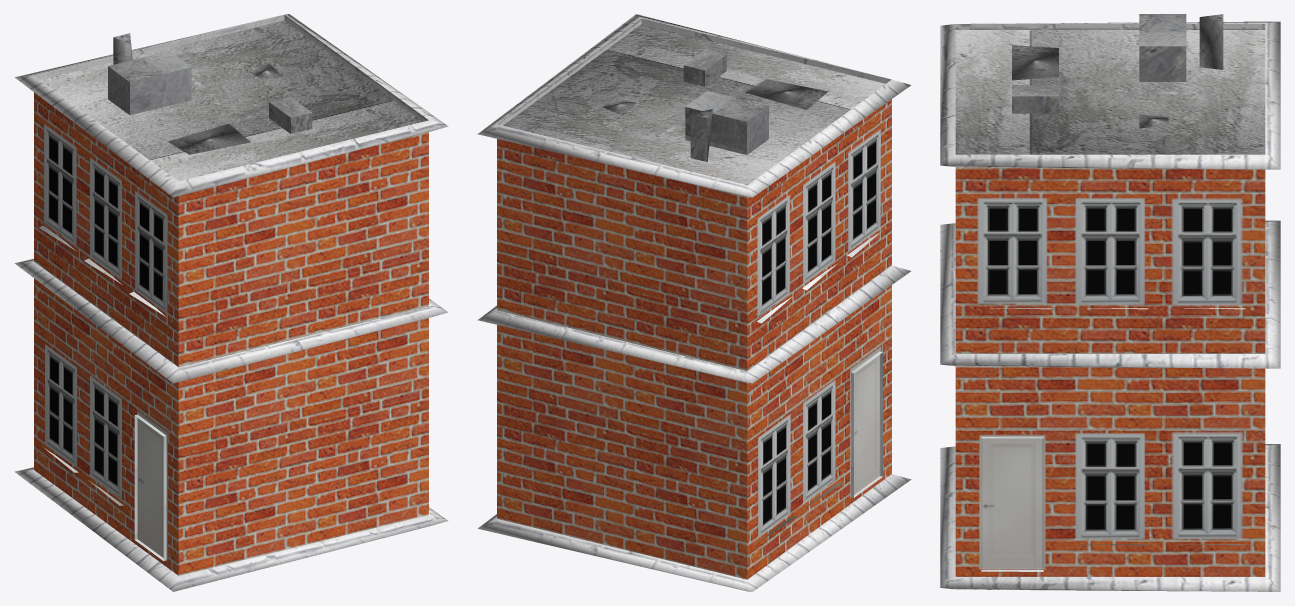
The model's file is Low poly House.fbx.
3 renders of one model, left to right at view 1: azimuth 30°, elevation 25°; view 2: azimuth 150°, elevation 25°; view 3: azimuth 270°, elevation 25°, orthographic. The views are drawn at different scales.
Parts seen in each view (by area): view 1: AHouse_1; view 2: AHouse_1; view 3: AHouse_1.
Boxes of the visible parts, x1,y1,x2,y2 form: AHouse_1: [14, 14, 448, 591]; AHouse_1: [477, 14, 911, 591]; AHouse_1: [940, 14, 1280, 591].
Size of the model in its own units: 220 by 339 by 220.
